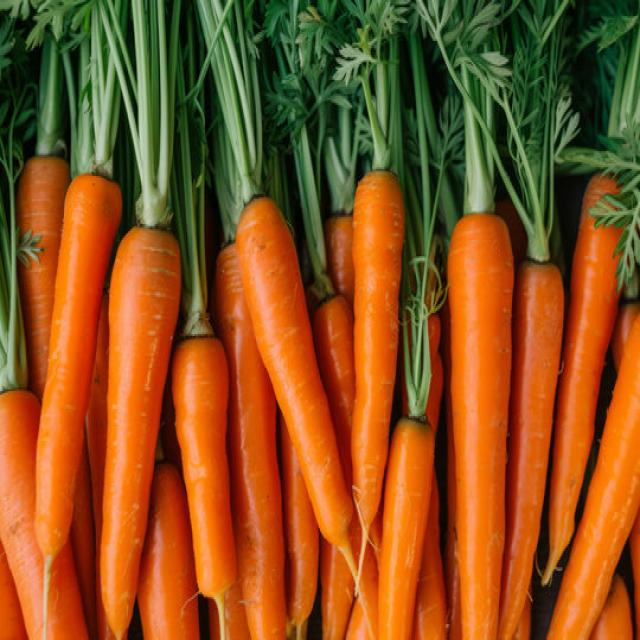Carrot: (33, 171, 122, 638), (539, 169, 626, 587), (98, 224, 182, 638), (213, 242, 287, 638), (446, 210, 514, 638), (348, 167, 406, 637), (497, 258, 564, 638), (0, 388, 89, 638), (377, 308, 442, 638), (171, 332, 237, 638), (15, 155, 70, 398), (137, 461, 200, 638), (0, 388, 44, 638), (280, 412, 319, 638), (590, 572, 633, 638), (0, 542, 27, 638)
